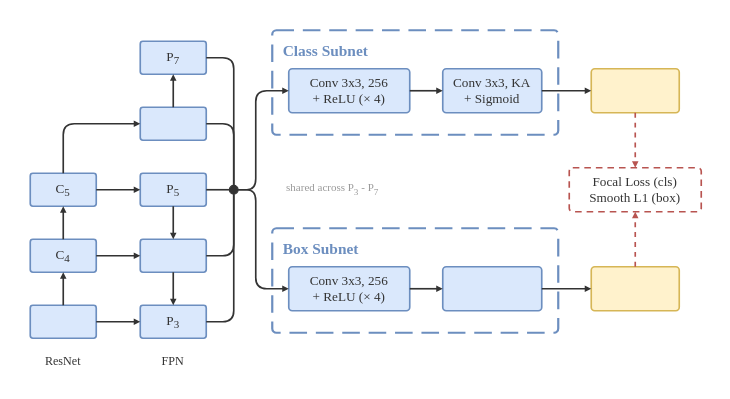
The diagram is 730 pixels wide and 399 high, and some of its shapes have lost their labels. Each missing label, with the centre of its shape:
"Box W x H x 4A" belongs at (635,288).
"C 3" belongs at (63,321).
"Class W x H x KA" belongs at (635,90).
"Conv 3x3, 4A" belongs at (491,288).
"P 4" belongs at (173,255).
"P 6" belongs at (173,123).
